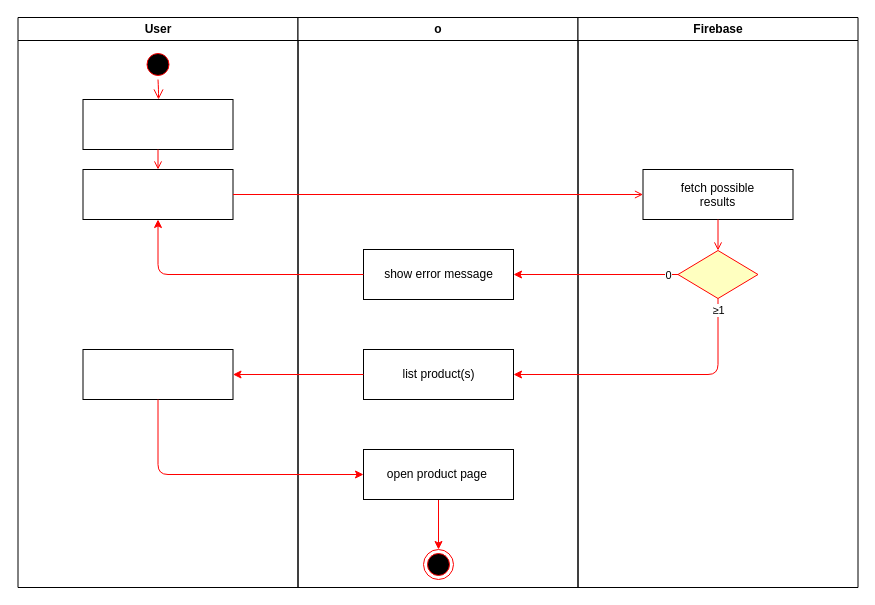
The diagram is 875 pixels wide and 605 high, and some of its shapes have lost their labels. The centre of each missing label's shape, as x and y in pixels:
click on search bar: point (157, 124)
click on specific product: point (157, 374)
input name or EAN: point (157, 194)
Nr of results: point (717, 274)
